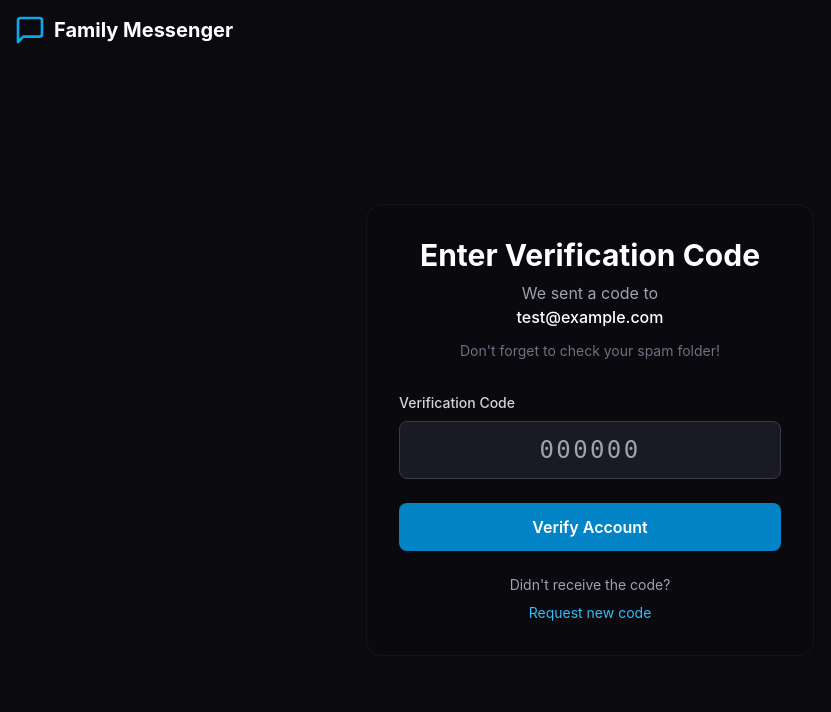
it: Confirm Page › shows error for short code
This screenshot has width=831, height=712.
In the field labelled "Verification Code": (590, 450) [399,421,781,479], type "123"
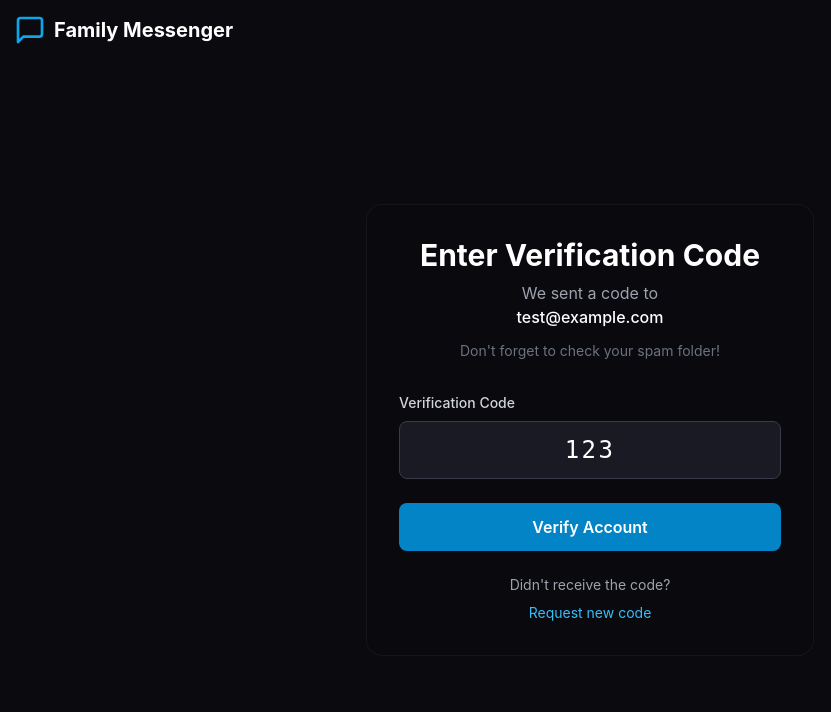
Click the button "Verify Account": (590, 527) [399,503,781,551]
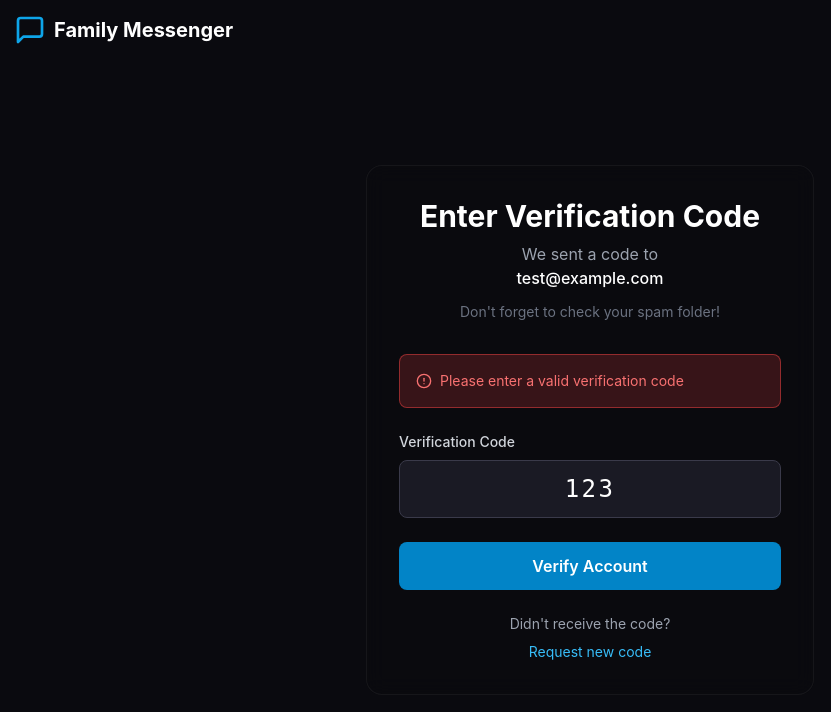
Now the text "Please enter a valid verification code" is shown, box [399,354,781,408]
